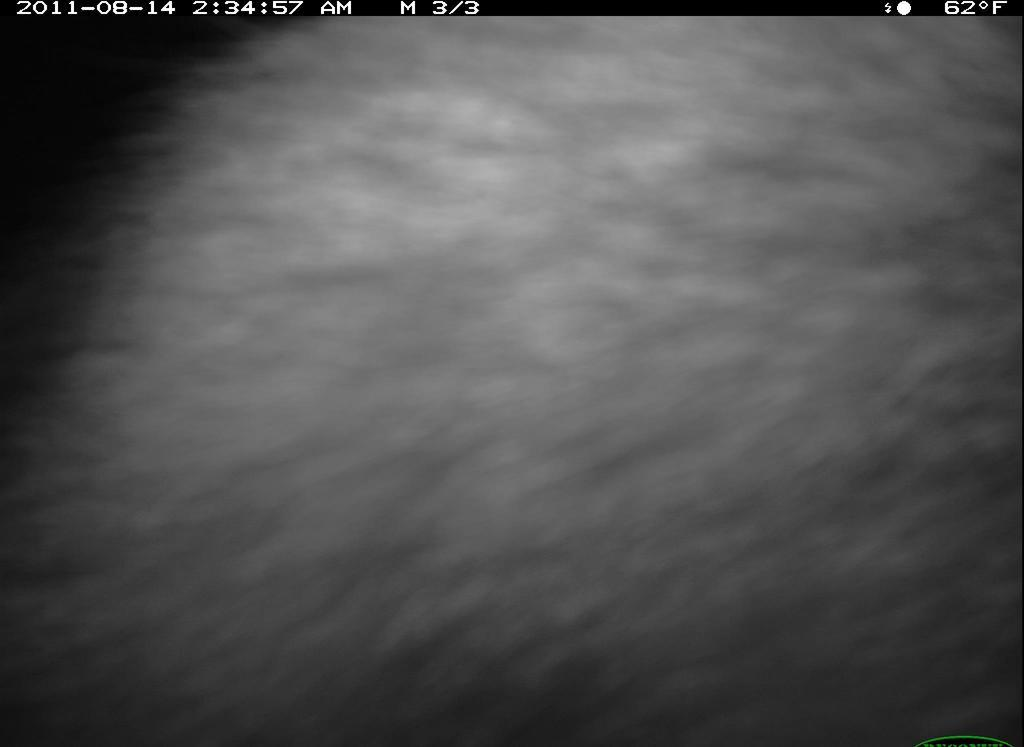raccoon: (2, 17, 1022, 747)
